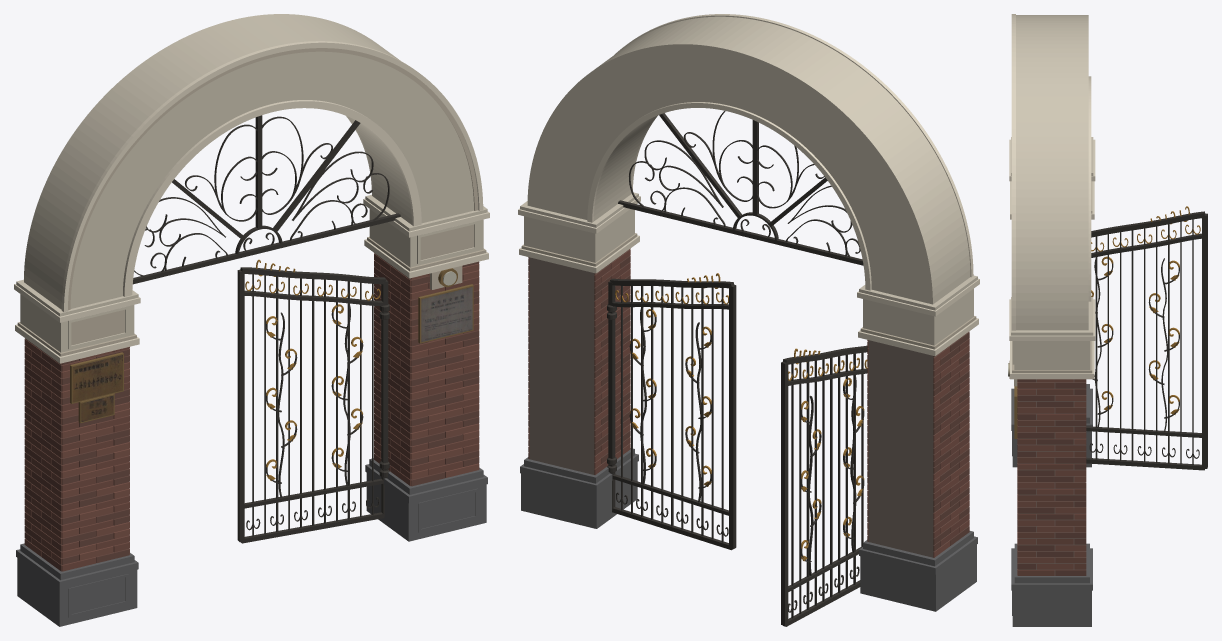
Rendered from jingan-gong-residence-jiaozhou-gate-web.glb.
3 views of the same model, side by side, from view 1: azimuth 30°, elevation 25°; view 2: azimuth 150°, elevation 25°; view 3: azimuth 270°, elevation 25° (orthographic). The views are drawn at different scales.
Visible parts, largest first — view 1: 龚氏花园住宅胶州路522号拱门; view 2: 龚氏花园住宅胶州路522号拱门; view 3: 龚氏花园住宅胶州路522号拱门.
Part boxes in pixels (x1,y1,x2,y2): 龚氏花园住宅胶州路522号拱门: (14,14,489,626); 龚氏花园住宅胶州路522号拱门: (518,14,979,626); 龚氏花园住宅胶州路522号拱门: (1008,14,1207,626).
Bounding box in the file's own units: 5.53 × 6.47 × 2.37.
16 materials, 3 textured.
